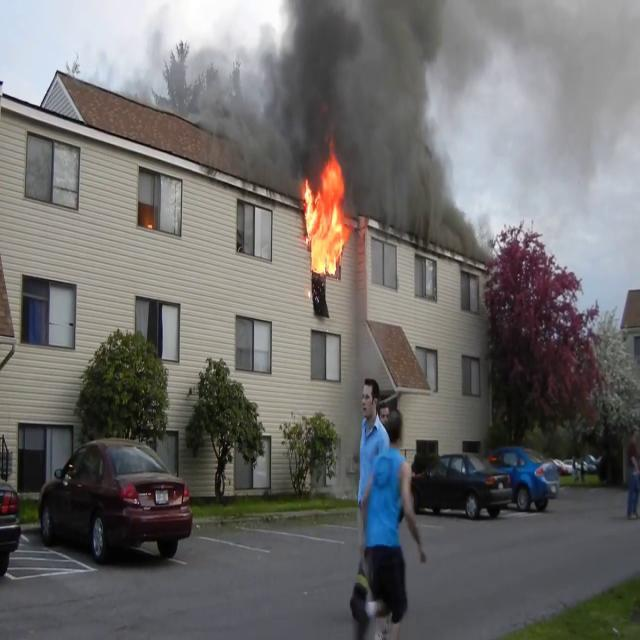Fire: (300, 154, 350, 278)
Smoke: (229, 0, 469, 206), (446, 0, 640, 191)
